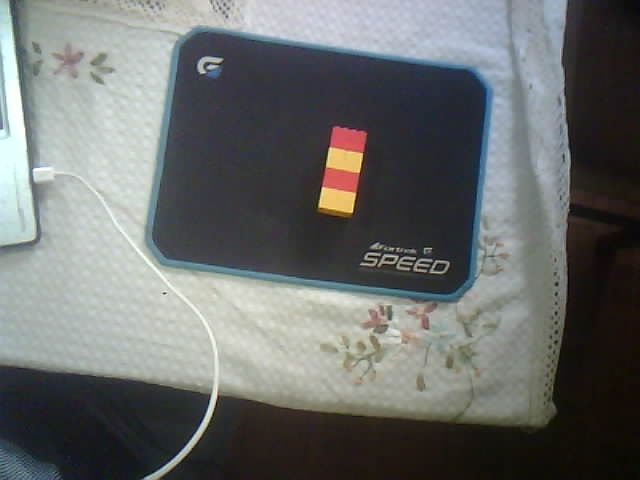lego: (316, 124, 368, 219)
